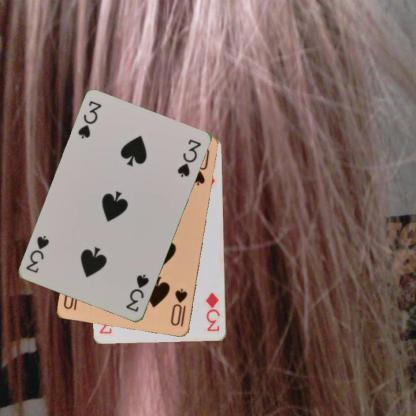10s: (168, 286, 189, 328)
3d: (204, 290, 222, 333)
3s: (123, 272, 151, 314), (75, 98, 103, 140)
